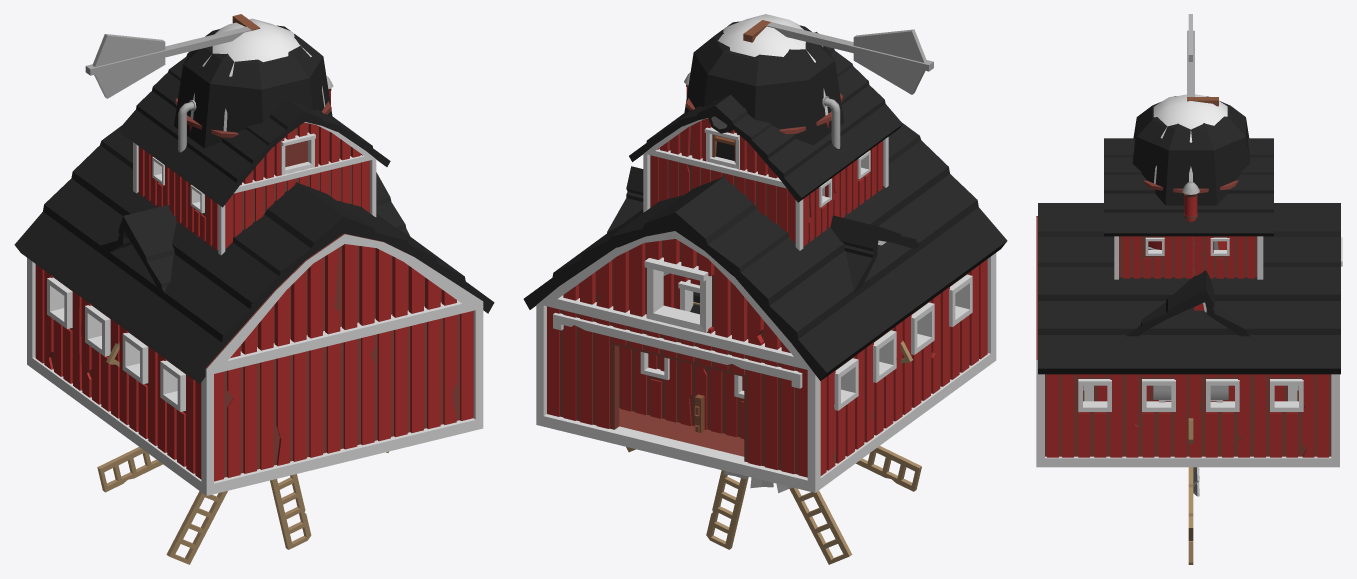
File: SC_Farm_Factor_Pieces.fbx
3 views of the same model, side by side, from view 1: azimuth 30°, elevation 25°; view 2: azimuth 150°, elevation 25°; view 3: azimuth 270°, elevation 25° (orthographic). The views are drawn at different scales.
Visible parts, largest first — view 1: SM_Barn_Base_Large, SM_Windmill_1, SM_Windmill_2, SM_Windmill_1_Blades, SM_Barn_Base_Small, SM_Silo; view 2: SM_Barn_Base_Large, SM_Barn_Base_Small, SM_Windmill_1, SM_Windmill_1_Blades, SM_Windmill_2, SM_Silo, SM_Barn_Stable; view 3: SM_Barn_Base_Large, SM_Windmill_1, SM_Barn_Base_Small, SM_Silo, SM_Silo_House, SM_Barn_Stable, SM_Windmill_2, SM_Windmill_1_Blades.
Boxes of the visible parts, box(x1,y1,x2,y2) form: SM_Barn_Base_Large: box(14, 51, 494, 495); SM_Windmill_1: box(174, 25, 332, 148); SM_Windmill_2: box(85, 14, 260, 98); SM_Windmill_1_Blades: box(97, 341, 388, 564); SM_Barn_Base_Small: box(99, 172, 409, 295); SM_Silo: box(175, 18, 331, 152); SM_Barn_Base_Large: box(523, 32, 1007, 492); SM_Barn_Base_Small: box(607, 166, 920, 438); SM_Windmill_1: box(684, 21, 844, 305); SM_Windmill_1_Blades: box(626, 340, 921, 564); SM_Windmill_2: box(743, 20, 933, 94); SM_Silo: box(685, 14, 843, 162); SM_Barn_Stable: box(648, 272, 744, 390); SM_Barn_Base_Large: box(1036, 138, 1342, 467); SM_Windmill_1: box(1132, 96, 1249, 249); SM_Barn_Base_Small: box(1083, 270, 1298, 401); SM_Silo: box(1143, 94, 1238, 249); SM_Silo_House: box(1153, 181, 1228, 402); SM_Barn_Stable: box(1087, 385, 1294, 401); SM_Windmill_2: box(1187, 14, 1218, 106); SM_Windmill_1_Blades: box(1188, 418, 1193, 564).
Size of the model in its own units: 8.2 by 13.7 by 8.05.
